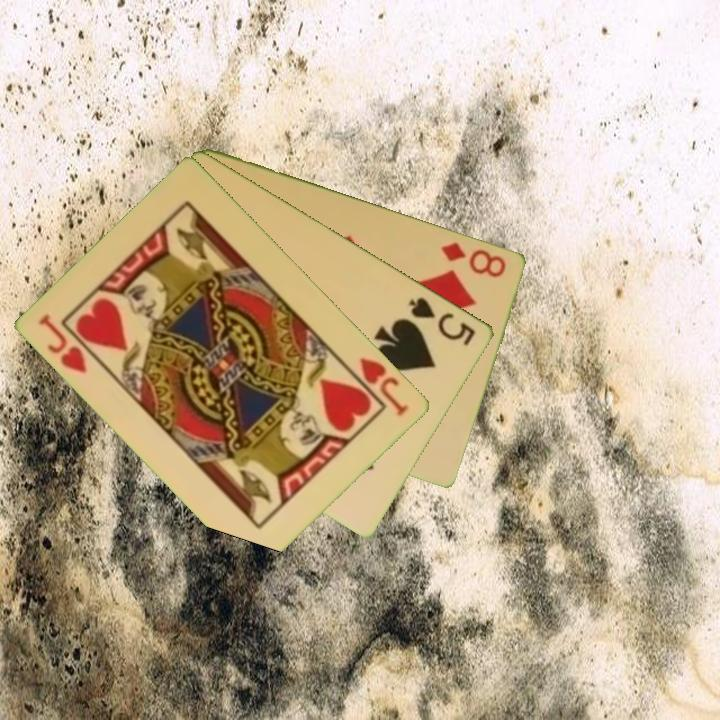5s: (405, 293, 479, 349)
8d: (438, 238, 510, 280)
Jh: (356, 353, 413, 419), (35, 310, 91, 376)
